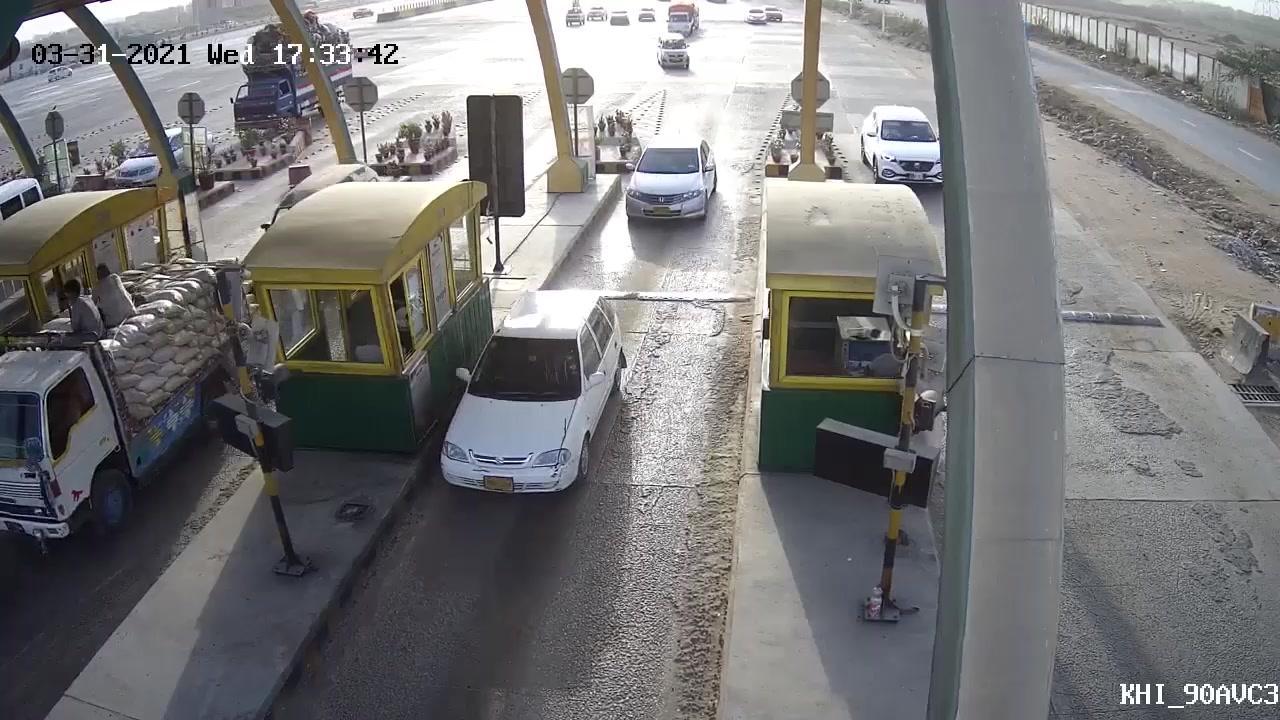F1: (427, 285, 626, 499)
